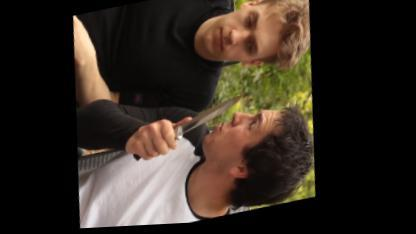knife: (145, 90, 262, 162)
